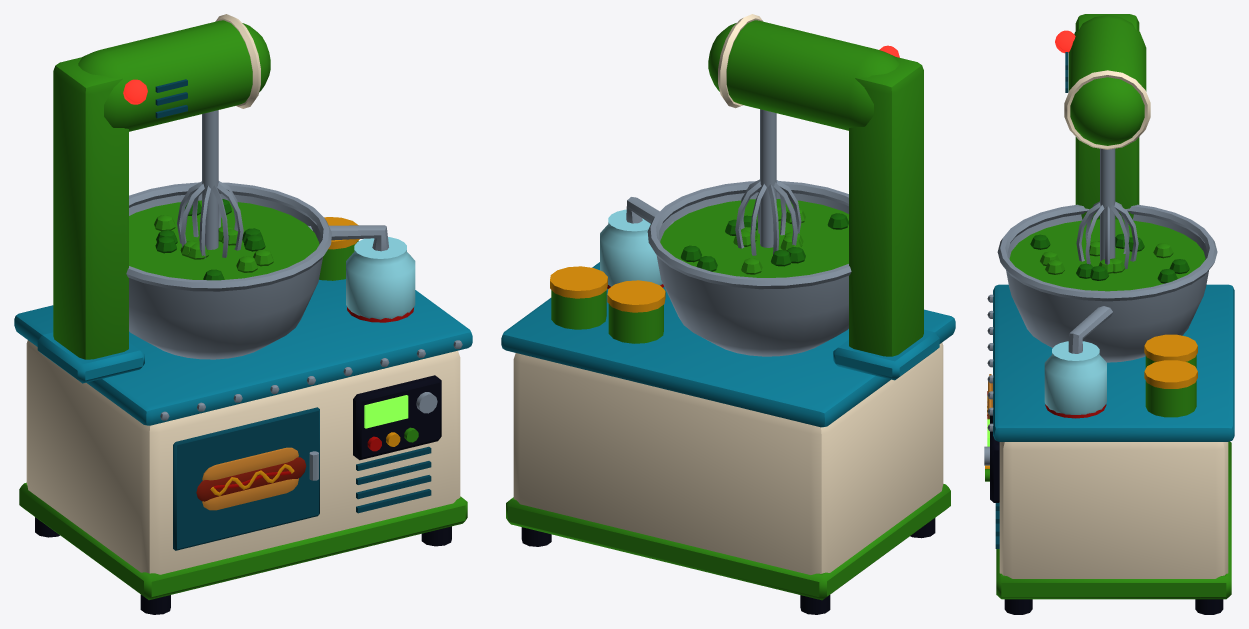
Rendered from RelishMixer.fbx.
The picture shows the model from 3 angles, left to right: view 1: azimuth 30°, elevation 25°; view 2: azimuth 150°, elevation 25°; view 3: azimuth 270°, elevation 25°; orthographic projection. The views are drawn at different scales.
Visible parts, largest first — view 1: RelishMixer; view 2: RelishMixer; view 3: RelishMixer.
Boxes of the visible parts, x1=… form: RelishMixer: x1=14, y1=14, x2=472, y2=614; RelishMixer: x1=501, y1=14, x2=955, y2=614; RelishMixer: x1=984, y1=14, x2=1234, y2=614.
Size of the model in its own units: 5.8 by 8.19 by 3.94.
